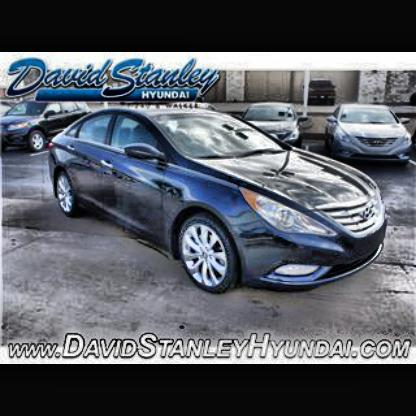Hyundai Sonata Sedan 2012: (55, 103, 390, 300)
